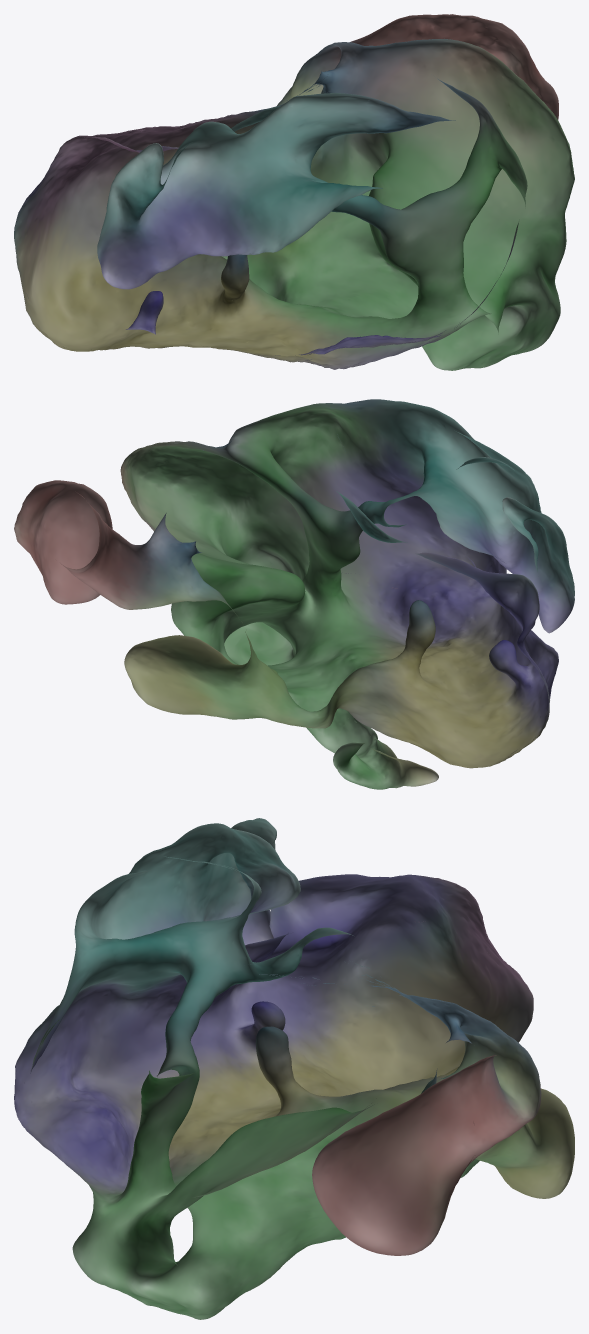
The model's file is Cloud_global_inner.glb.
The picture shows the model from 3 angles, top to bottom: view 1: azimuth 30°, elevation 25°; view 2: azimuth 150°, elevation 25°; view 3: azimuth 270°, elevation 25°; orthographic projection. The views are drawn at different scales.
Visible parts, largest first — view 1: Cloud_global_inner; view 2: Cloud_global_inner; view 3: Cloud_global_inner.
Part boxes in pixels (bbox=[...]): Cloud_global_inner: bbox=[14, 14, 574, 370]; Cloud_global_inner: bbox=[14, 399, 574, 789]; Cloud_global_inner: bbox=[14, 818, 574, 1319].
Size of the model in its own units: 0.9427 by 0.5054 by 0.72.
